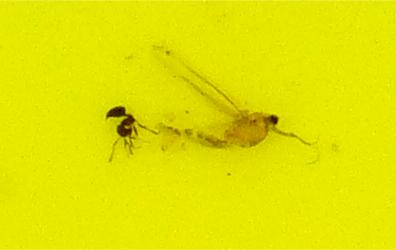Ephemeroptera: (183, 108, 296, 150)
Hymenoptera: (100, 100, 139, 150)
